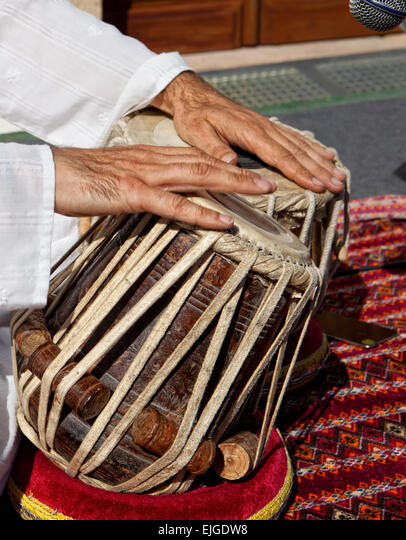tabla: (32, 177, 320, 481), (127, 107, 343, 258)
